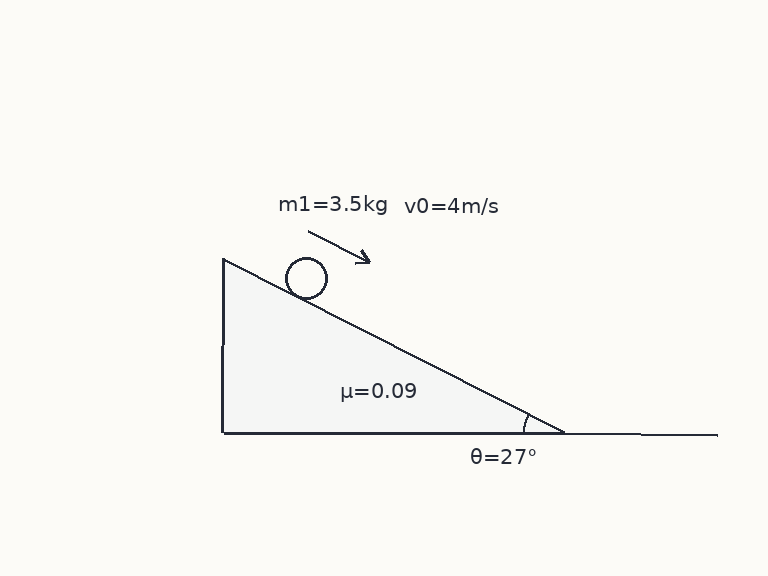ball: (283, 255, 329, 301)
ramp: (221, 257, 566, 435)
